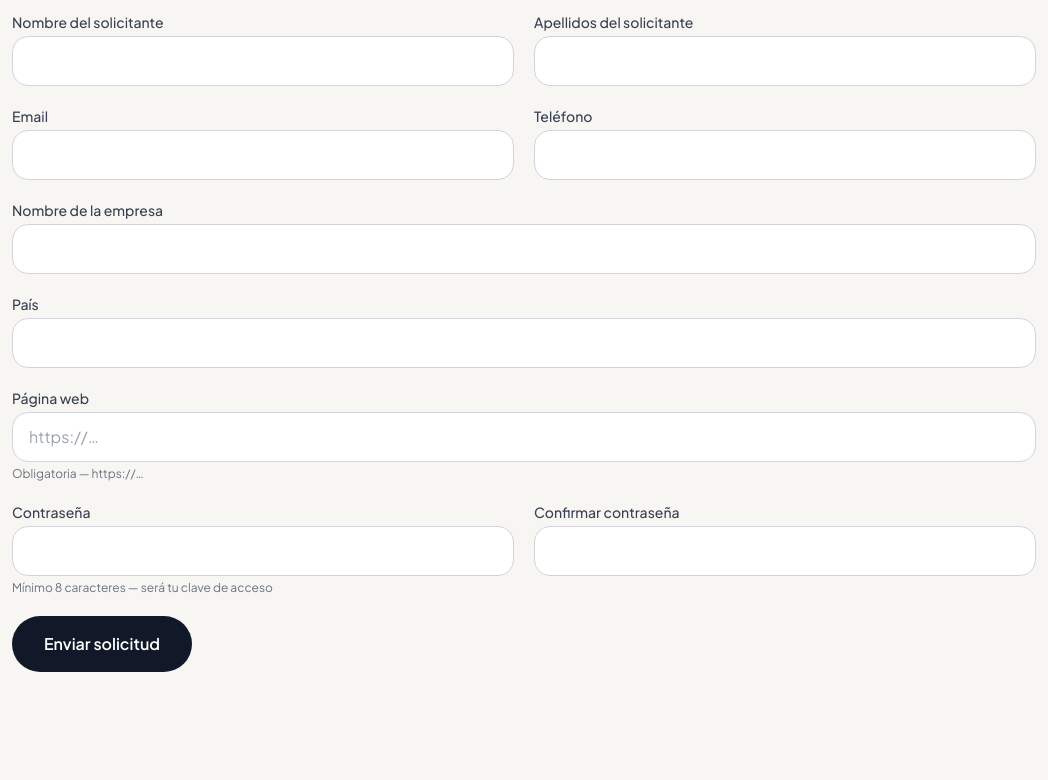
Test: ForeignRegistrationForm (spec: website required, no document) › hides the website hint while its error is shown
Click the button "Enviar solicitud" at (102,644), box [12,616,192,672]
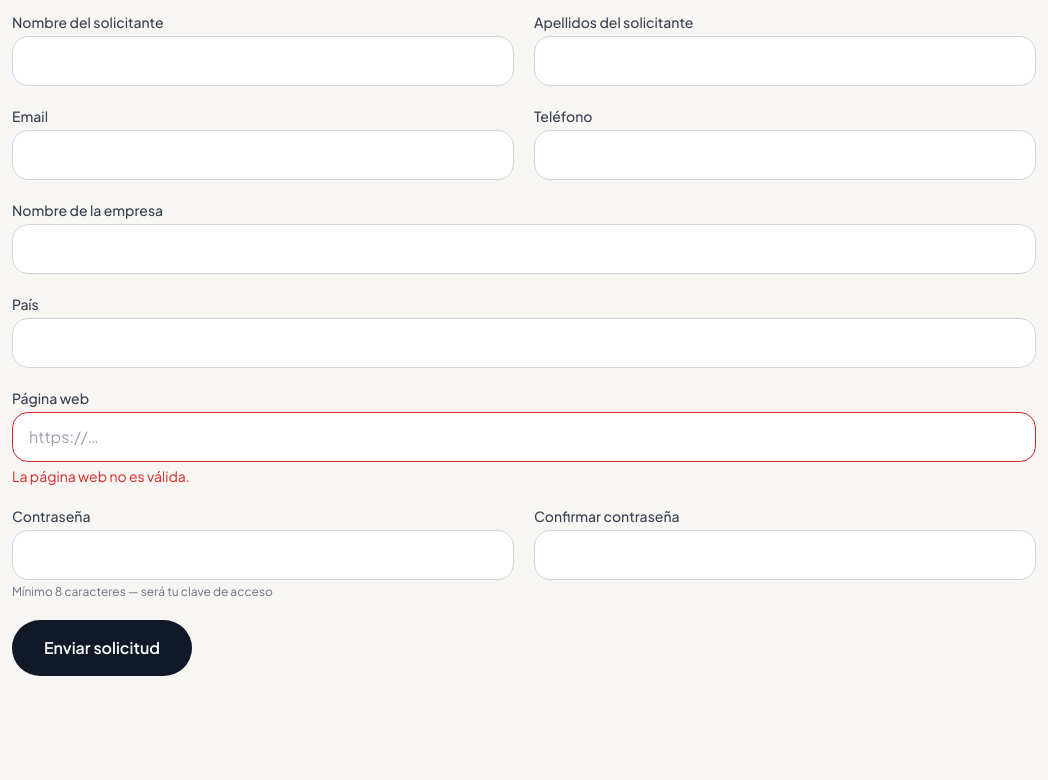
Expected: the text "La página web no es válida." is shown, [12,467,190,485]
Expected: the text "Obligatoria — https://…" is gone
